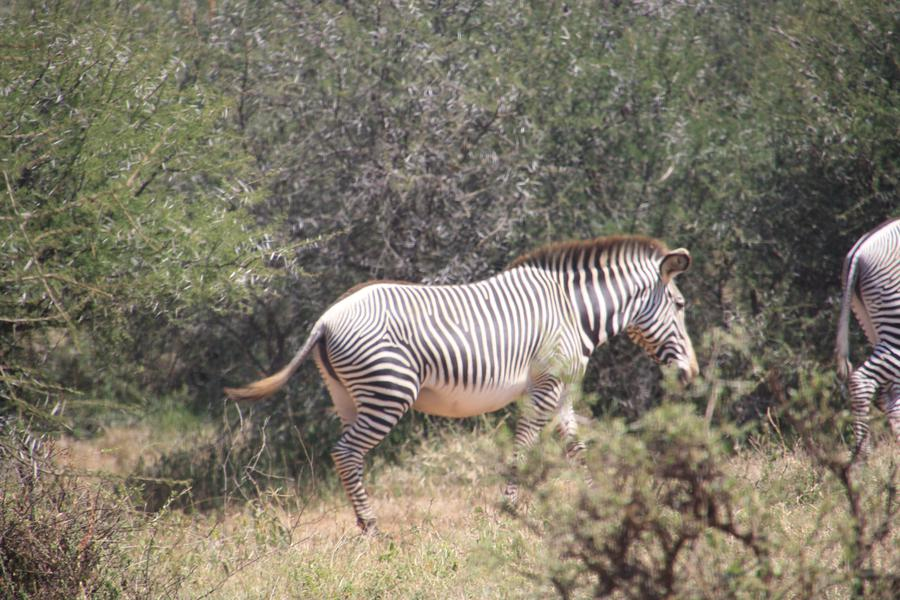zebra_grevys: (301, 270, 581, 381)
